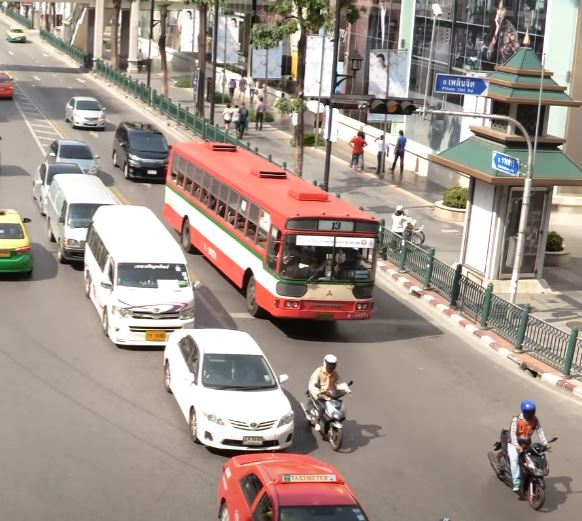Bus: (162, 141, 381, 322), (83, 204, 197, 347), (45, 173, 120, 264)
Car: (162, 327, 296, 453), (217, 450, 371, 521), (111, 122, 172, 183), (32, 162, 84, 212), (1, 208, 34, 276), (47, 139, 99, 177), (64, 95, 106, 128), (1, 71, 15, 100), (6, 27, 26, 43)
Motorcycle: (484, 399, 558, 511), (300, 353, 355, 452)
